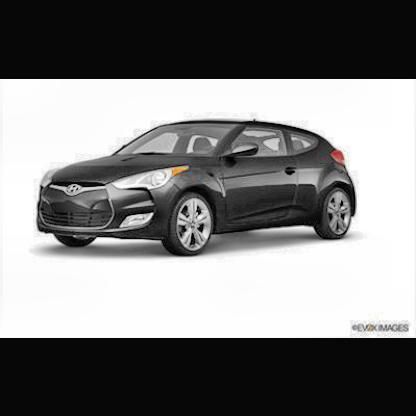Hyundai Veloster Hatchback 2012: (40, 122, 361, 259)
